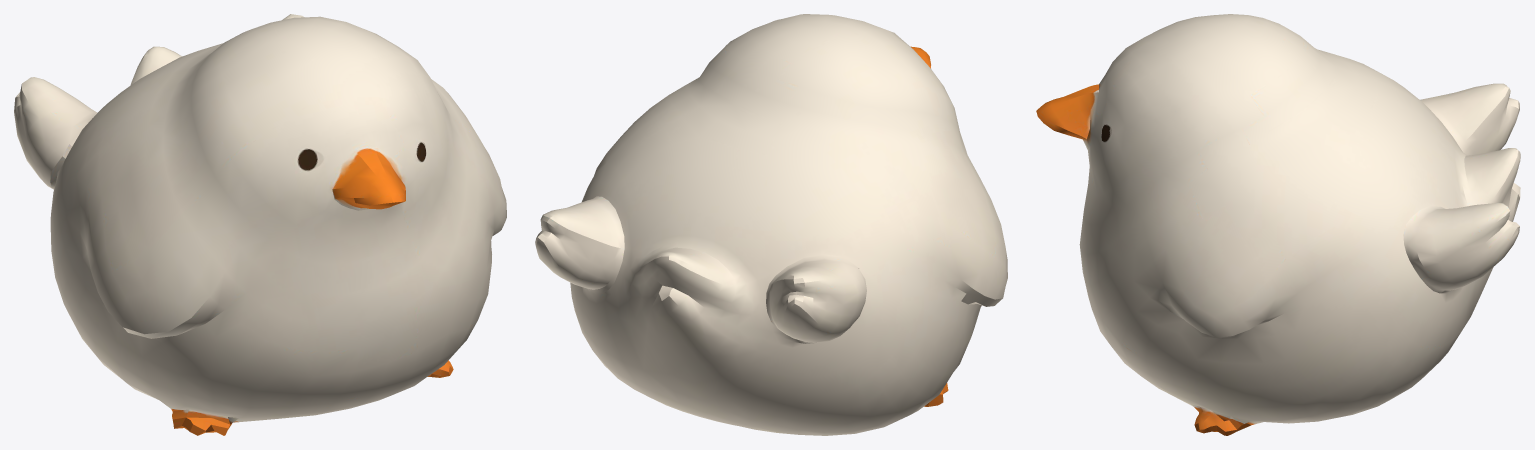
Rendered from Animal_Bird_02.glb.
The picture shows the model from 3 angles, left to right: view 1: azimuth 30°, elevation 25°; view 2: azimuth 150°, elevation 25°; view 3: azimuth 270°, elevation 25°; orthographic projection. The views are drawn at different scales.
Parts seen in each view (by area): view 1: Animal_Bird_02.001; view 2: Animal_Bird_02.001; view 3: Animal_Bird_02.001.
Part boxes in pixels (x1=…): Animal_Bird_02.001: x1=14, y1=14, x2=506, y2=435; Animal_Bird_02.001: x1=535, y1=14, x2=1007, y2=435; Animal_Bird_02.001: x1=1036, y1=14, x2=1520, y2=435.
Size of the model in its own units: 0.8871 by 0.7924 by 1.
1 material, 1 textured.
